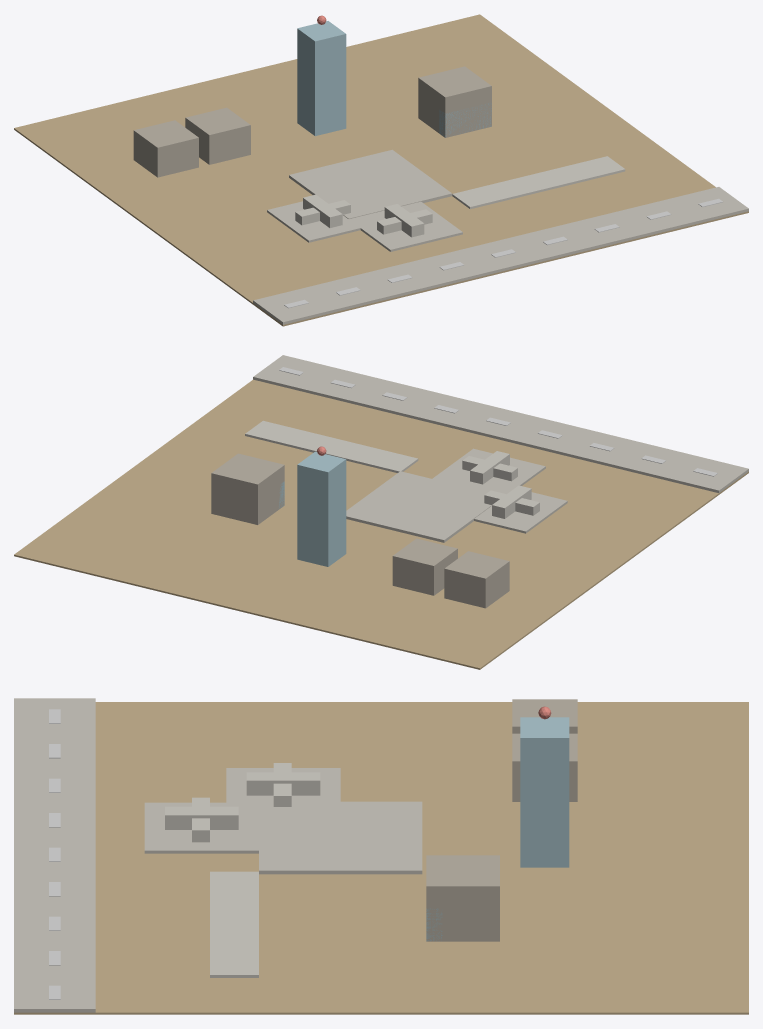
The model's file is stage_08.glb.
The picture shows the model from 3 angles, top to bottom: view 1: azimuth 30°, elevation 25°; view 2: azimuth 150°, elevation 25°; view 3: azimuth 270°, elevation 25°; orthographic projection. The views are drawn at different scales.
Parts seen in each view (by area): view 1: geometry_0; view 2: geometry_0; view 3: geometry_0.
Boxes of the visible parts, x1,y1,x2,y2 form: geometry_0: (14,14,748,326); geometry_0: (14,355,748,669); geometry_0: (14,698,748,1014).
Size of the model in its own units: 9 by 2.06 by 9.
